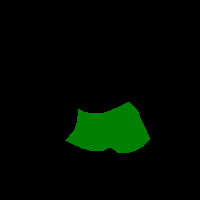mutande: (65, 101, 150, 153)
